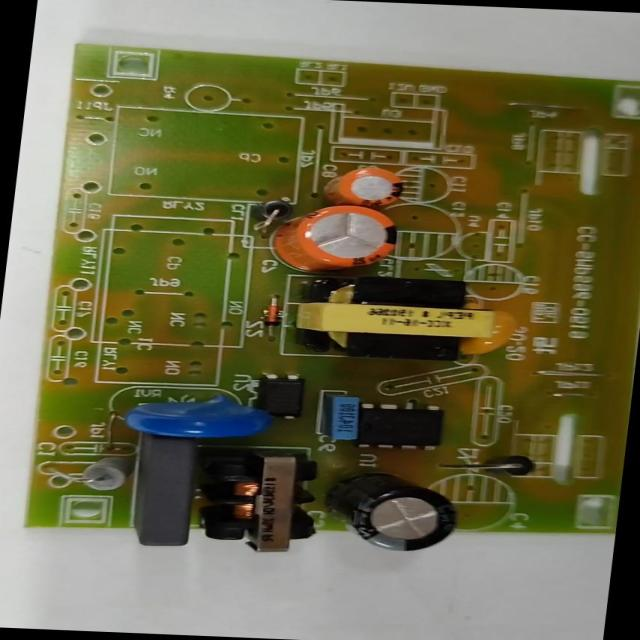Cap1: (266, 202, 402, 273)
Cap2: (322, 166, 406, 208)
Cap3: (329, 470, 462, 552)
MOSFET: (354, 402, 442, 450)
Mov: (121, 396, 264, 442)
Resistor: (70, 454, 132, 494)
Transformer: (290, 272, 494, 358), (199, 454, 322, 555)
